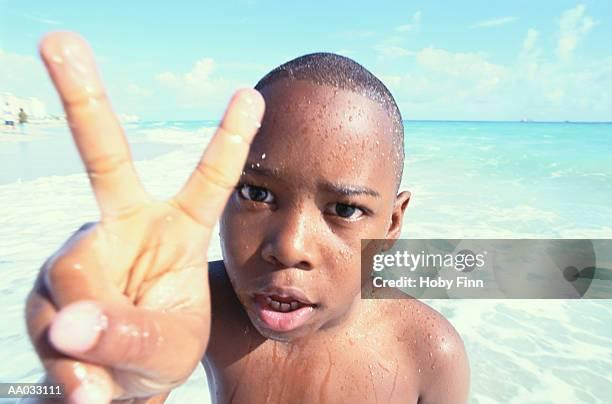peace_sign: (18, 19, 273, 404)
